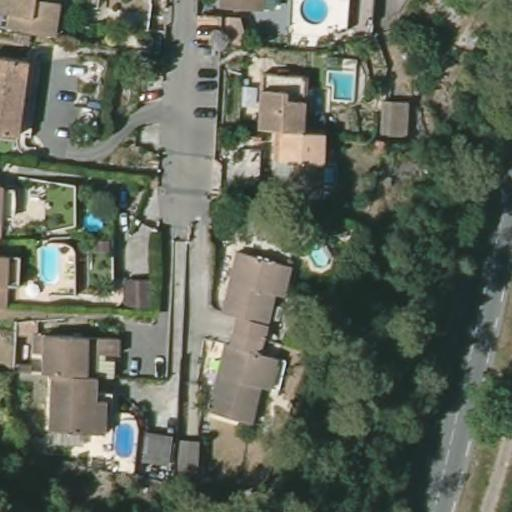pool: (106, 414, 142, 457), (320, 68, 358, 101), (37, 244, 67, 283), (293, 0, 331, 28), (79, 206, 110, 233), (302, 239, 333, 266)
